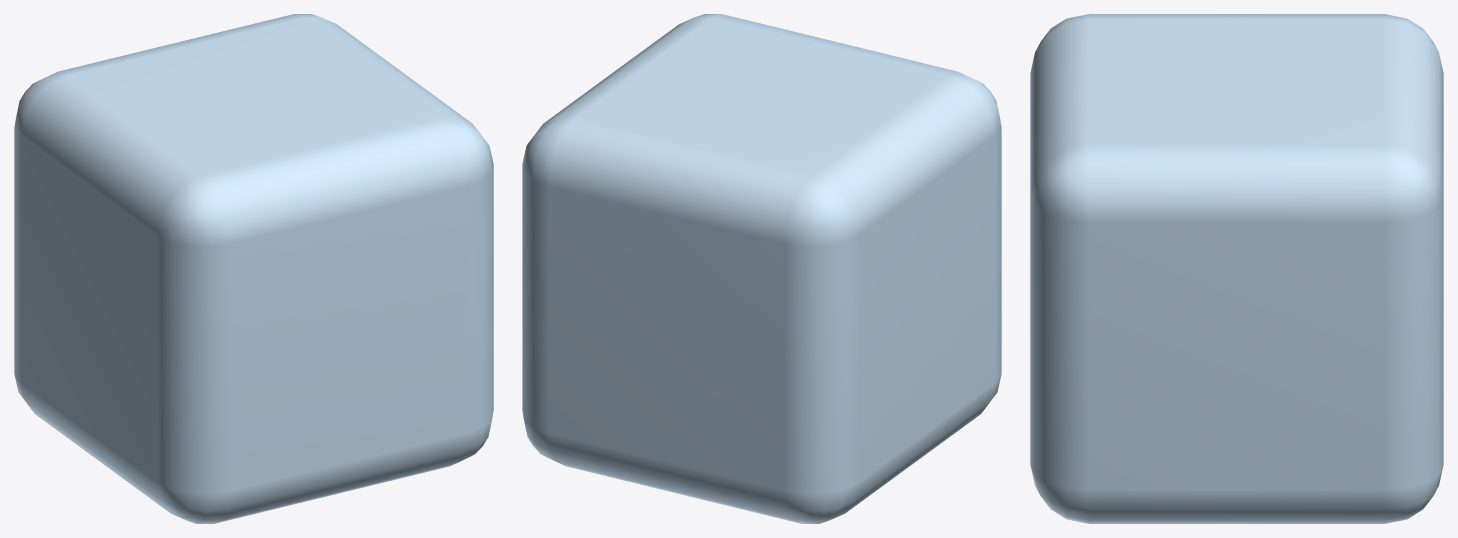
Rendered from SkyBlock.fbx.
3 renders of one model, left to right at view 1: azimuth 30°, elevation 25°; view 2: azimuth 150°, elevation 25°; view 3: azimuth 270°, elevation 25°, orthographic. The views are drawn at different scales.
Parts seen in each view (by area): view 1: Block.002; view 2: Block.002; view 3: Block.002.
Boxes of the visible parts, x1,y1,x2,y2 form: Block.002: (14,14,493,523); Block.002: (522,14,1001,523); Block.002: (1030,14,1443,523).
Size of the model in its own units: 0.42 by 0.42 by 0.42.
